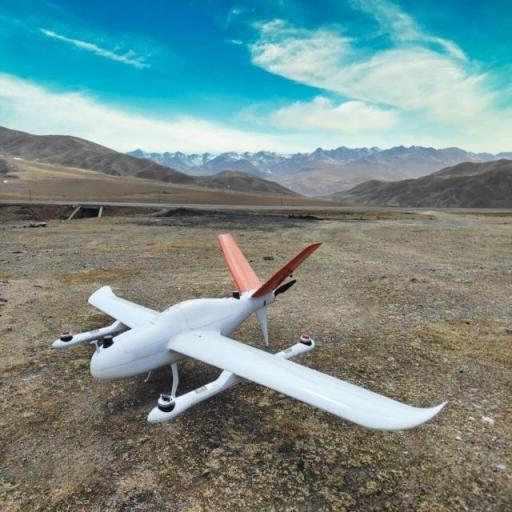uav: (53, 228, 453, 466)
